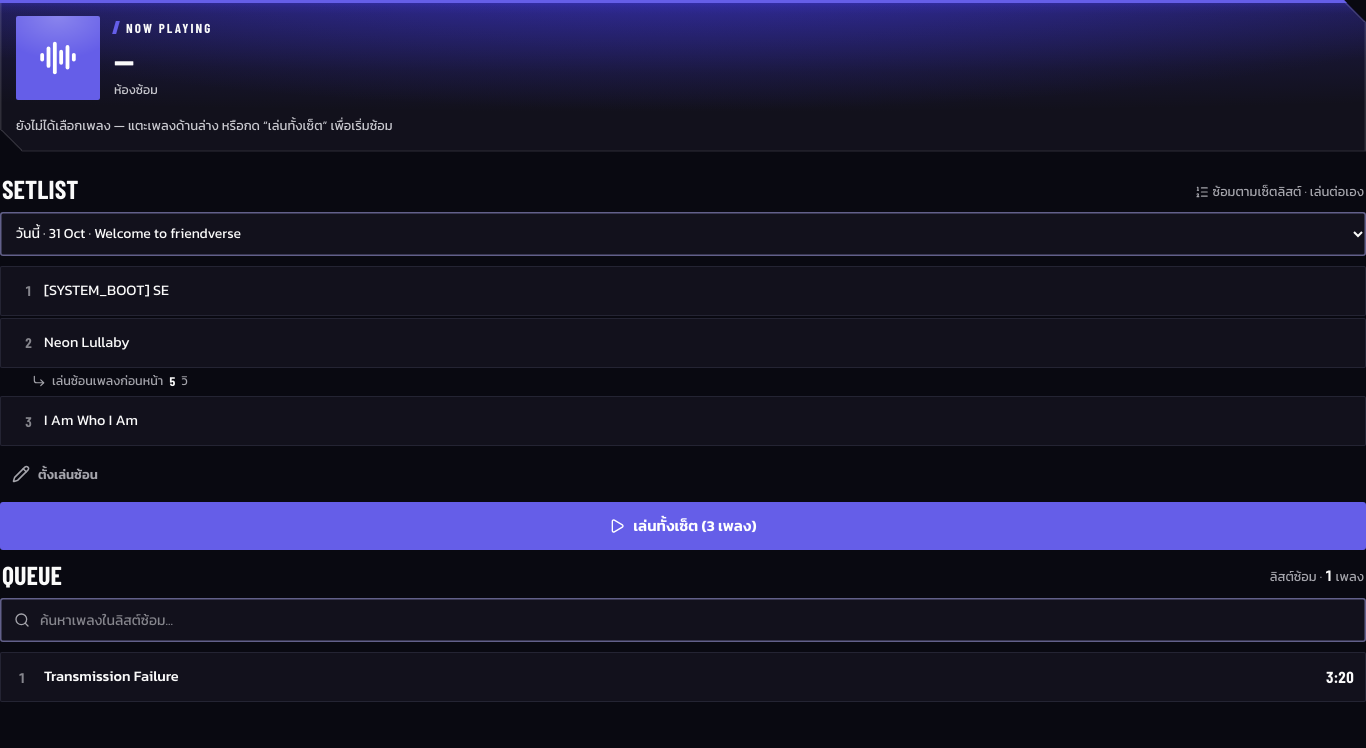
Scenario: PracticePlayer — เล่นซ้อน › an editor sets it with − / + and it is saved, once, to the show's own setlist
Click the button "ตั้งเล่นซ้อน".
click(55, 474)  # box [0, 456, 110, 492]
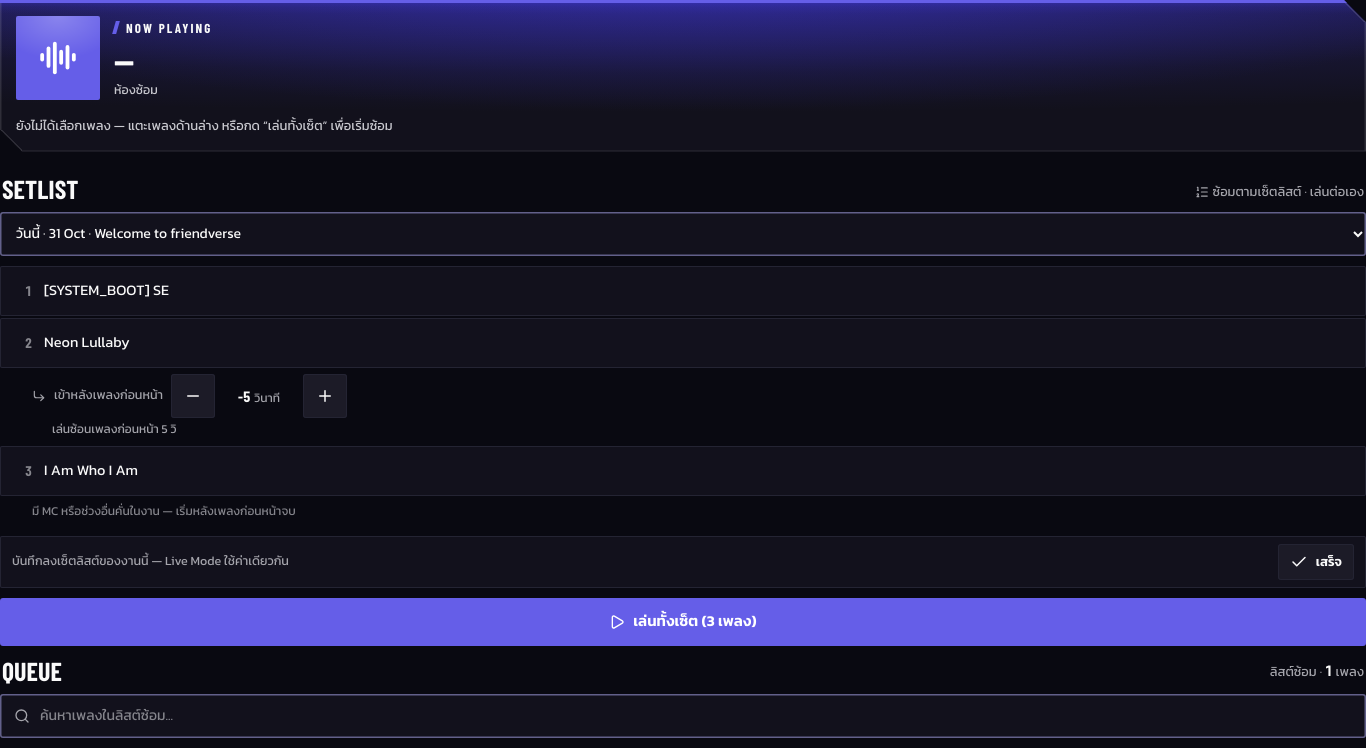
Click the button named "เข้าเร็วขึ้น · Neon Lullaby".
click(193, 396)  # box [171, 374, 215, 418]
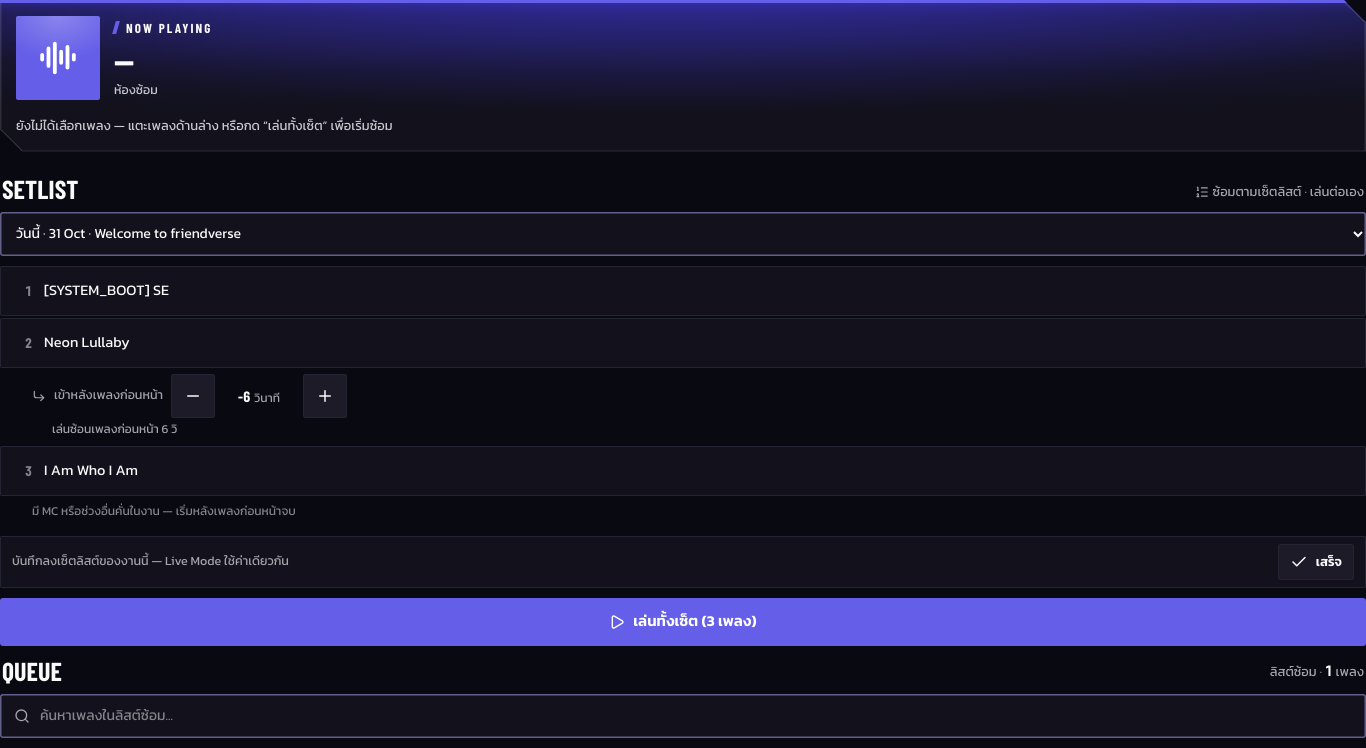
Click the button named "เข้าเร็วขึ้น · Neon Lullaby".
click(193, 396)  # box [171, 374, 215, 418]
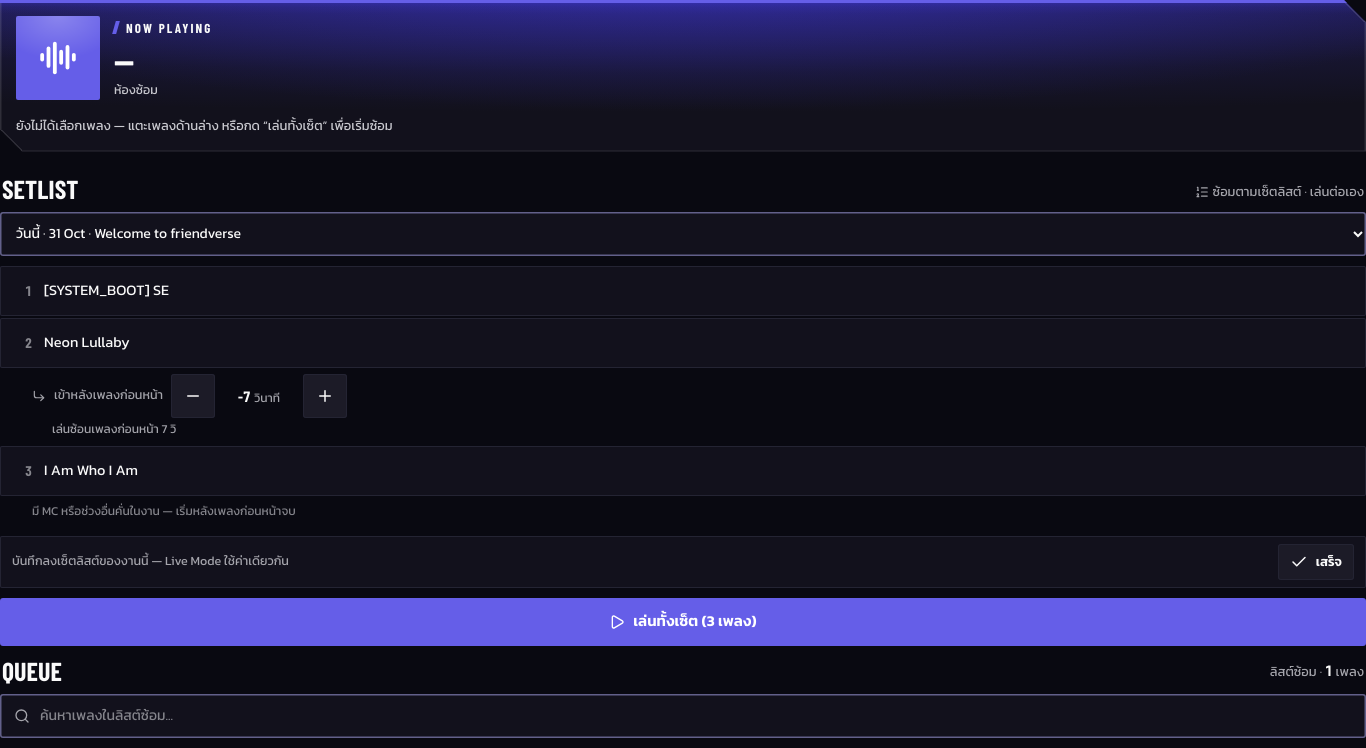
Now the element named "เข้าหลังเพลงก่อนหน้า · Neon Lullaby -7 วินาที" is shown, box [238, 386, 280, 406]
